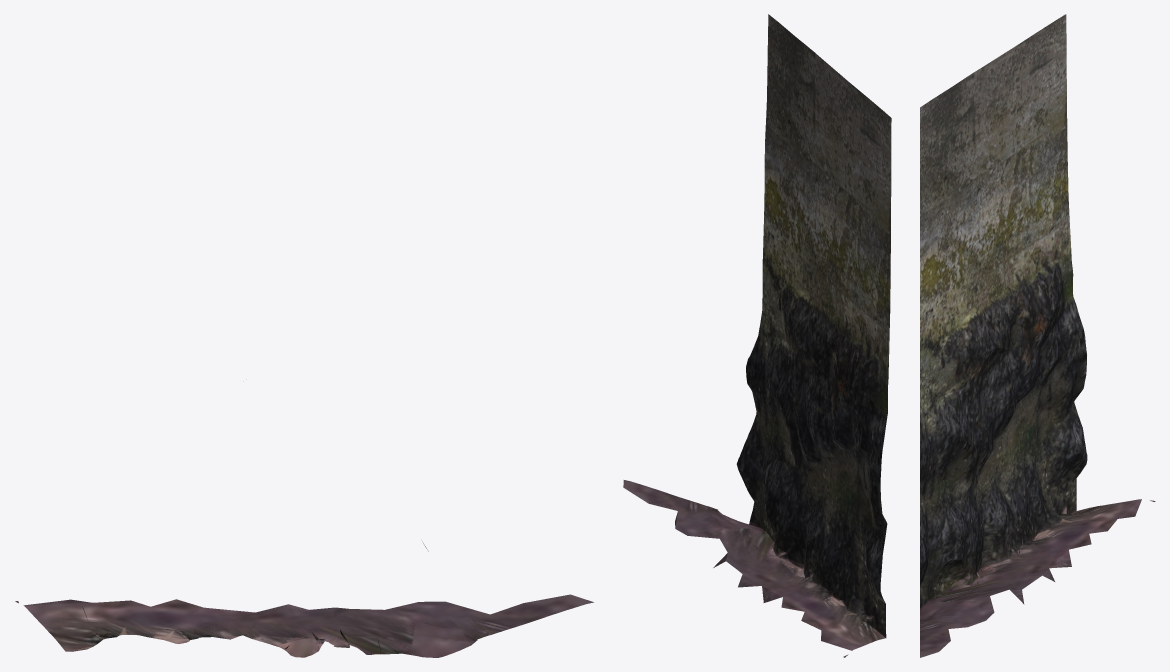
3 views of the same model, side by side, from view 1: azimuth 30°, elevation 25°; view 2: azimuth 150°, elevation 25°; view 3: azimuth 270°, elevation 25° (orthographic). The views are drawn at different scales.
Bounding box in the file's own units: 1.26 × 1.81 × 0.7749.
Materials: 1 (1 with a texture image).
